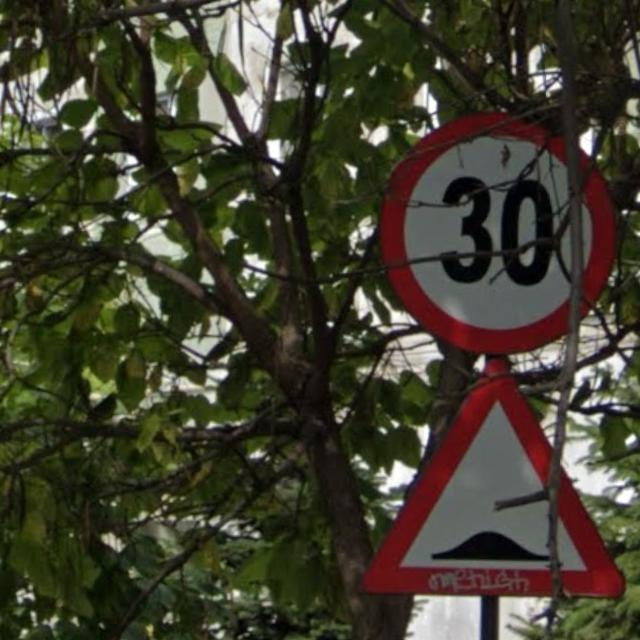forb_speed_over_30: (373, 110, 618, 354)
